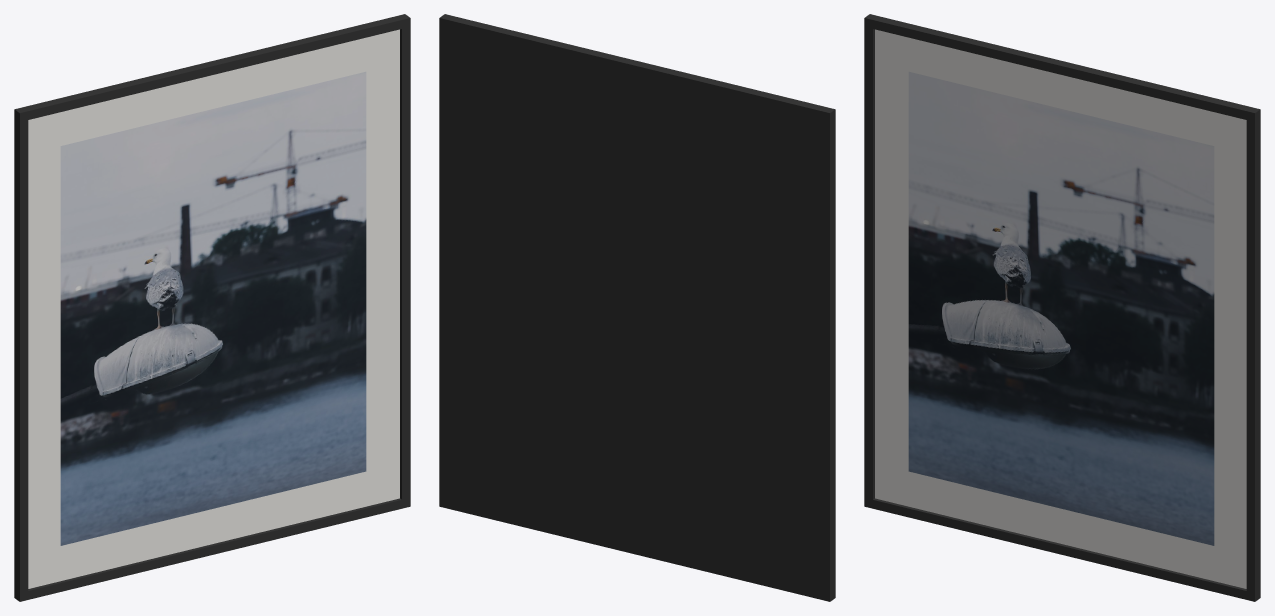
File: masen-90.gltf
3 renders of one model, left to right at view 1: azimuth 30°, elevation 25°; view 2: azimuth 150°, elevation 25°; view 3: azimuth 330°, elevation 25°, orthographic.
Visible parts, largest first — view 1: tavla; view 2: tavla; view 3: tavla.
Boxes of the visible parts, x1=… form: tavla: x1=14, y1=14, x2=410, y2=601; tavla: x1=439, y1=14, x2=835, y2=601; tavla: x1=864, y1=14, x2=1260, y2=601.
Size of the model in its own units: 0.9202 by 1.1 by 0.022.
3 materials, 1 textured.
